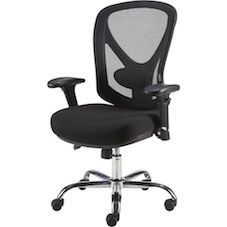chair: (32, 0, 195, 225)
